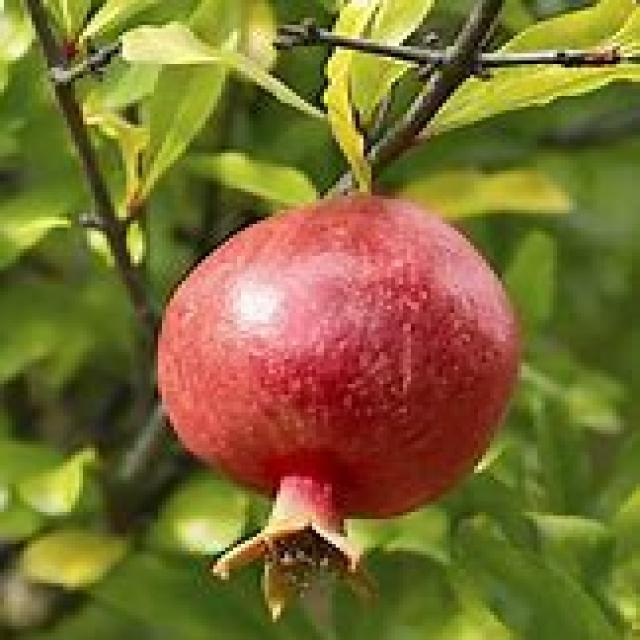Pomegranate: (156, 191, 526, 621)
